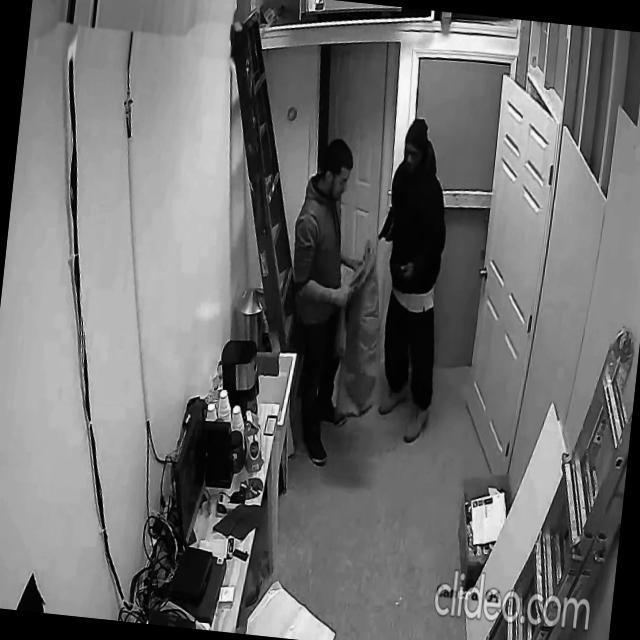gun: (378, 210, 392, 243)
person: (271, 132, 377, 474)
person with a gun: (358, 113, 462, 446)
